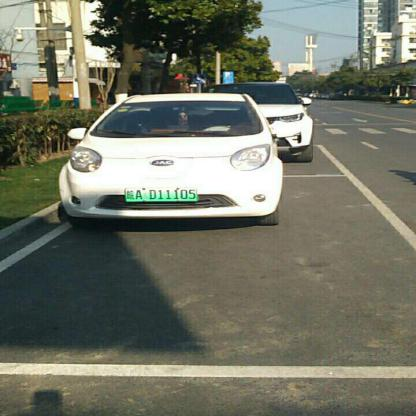lp: (125, 187, 196, 202)
